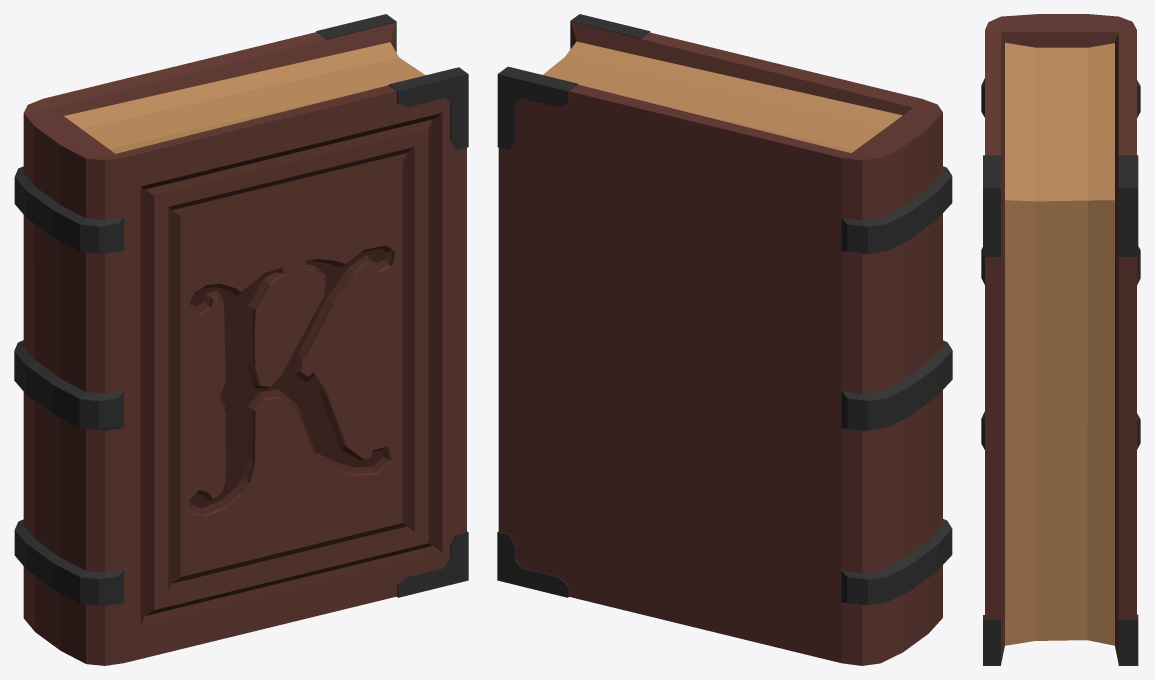
The model's file is book_treasure.fbx.
The picture shows the model from 3 angles, left to right: view 1: azimuth 30°, elevation 25°; view 2: azimuth 150°, elevation 25°; view 3: azimuth 270°, elevation 25°; orthographic projection. The views are drawn at different scales.
Visible parts, largest first — view 1: book; view 2: book; view 3: book.
Part boxes in pixels (x1,y1,x2,y2): book: (14, 14, 468, 665); book: (497, 14, 952, 665); book: (981, 14, 1140, 665).
Bounding box in the file's own units: 0.3782 × 0.4735 × 0.1433.
